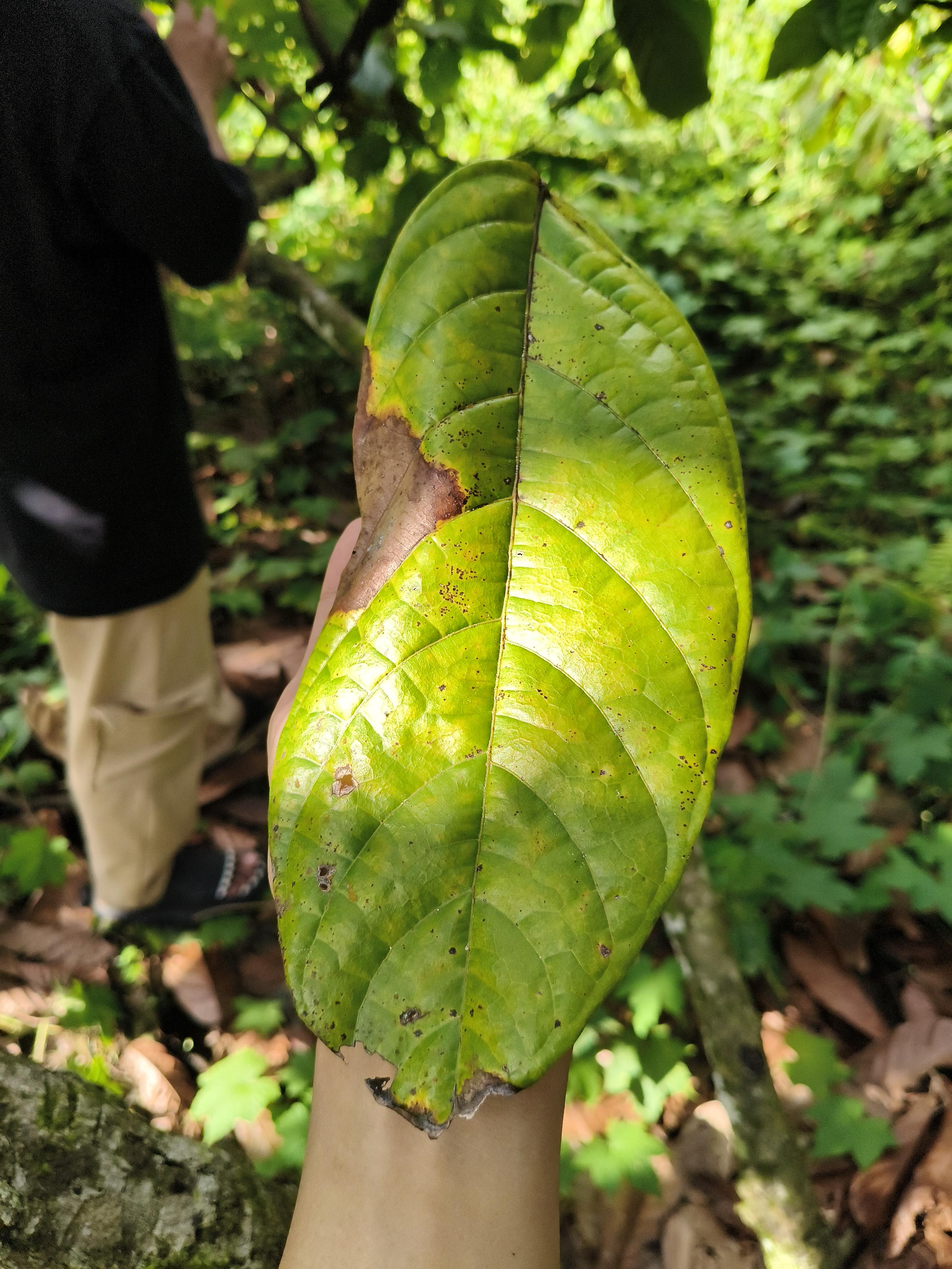deficiencia_potasio: (263, 158, 754, 1143)
